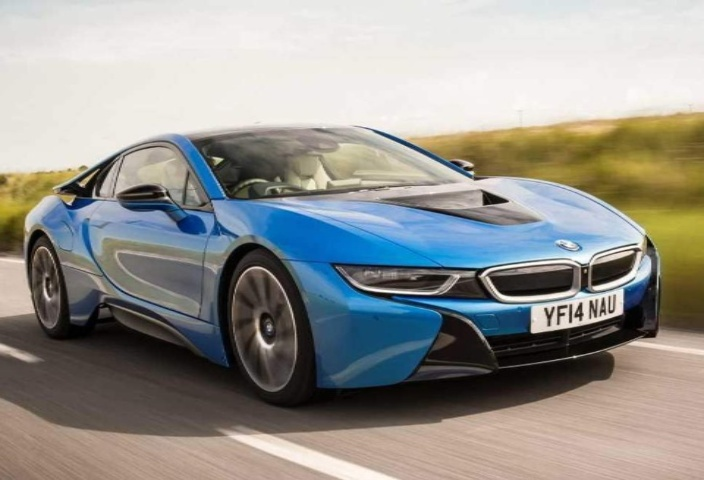car: (18, 111, 668, 408)
